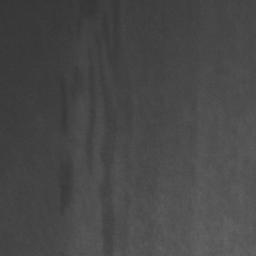Inclusion: (84, 1, 122, 256), (58, 156, 74, 212), (59, 77, 69, 129)
